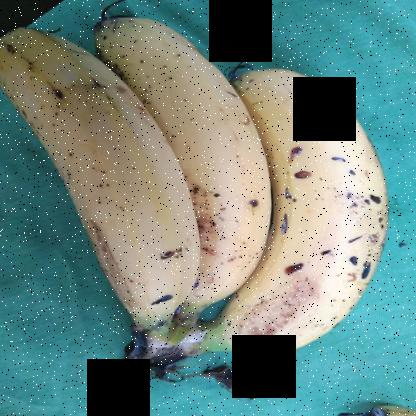ripe: (1, 9, 212, 329), (200, 55, 398, 362), (85, 4, 276, 313)
